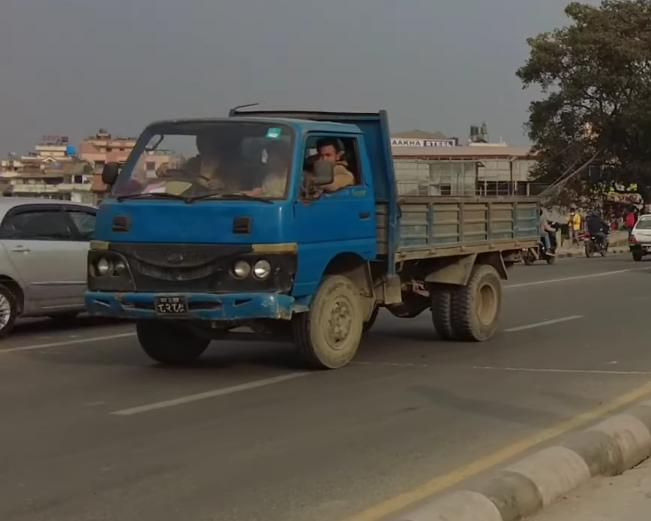bike: (574, 195, 617, 260)
car: (0, 190, 126, 348)
mini_truck: (86, 95, 553, 382)
taxi: (628, 209, 651, 262)
